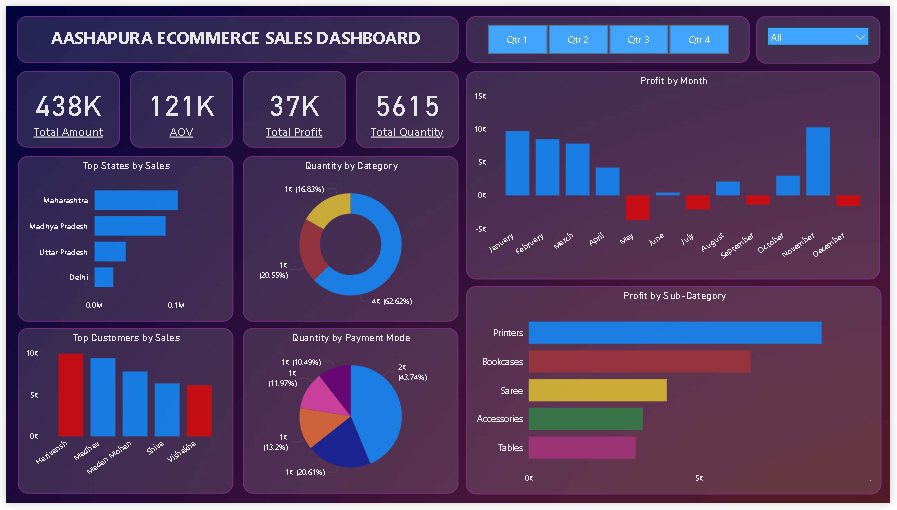

This screenshot's page, from the dashboard's own definition file:
{"tool":"powerbi","page":{"name":"Page 2","canvas":[1280,720],"ordinal":1},"visuals":[{"type":"textbox","box":[15.4,14.6,640,67.7],"z":0},{"type":"columnChart","title":"Profit by Month","fields":{"Category":["Orders.Order Date.Variation.Date Hierarchy.Month"],"Y":["Sum(Details.Profit)"]},"box":[666.9,94.6,600,302.3],"z":1000},{"type":"barChart","title":"Profit by Sub-Category","fields":{"Category":["Details.Sub-Category"],"Y":["Sum(Details.Profit)"]},"box":[666.7,405.6,602.2,302.2],"z":2000},{"type":"donutChart","title":"Quantity by Category","fields":{"Category":["Details.Category"],"Y":["Sum(Details.Quantity)"]},"box":[343.3,216.7,311.7,240],"z":3000},{"type":"pieChart","title":"Quantity by Payment Mode","fields":{"Category":["Details.PaymentMode"],"Y":["Sum(Details.Quantity)"]},"box":[343.1,466.9,312.3,240],"z":4000},{"type":"card","fields":{"Values":["Sum(Details.Amount)"]},"box":[15.7,94.3,148.6,111.4],"z":5000},{"type":"card","fields":{"Values":["Sum(Details.AOV)"]},"box":[180,94.3,148.6,111.4],"z":6000},{"type":"card","fields":{"Values":["Sum(Details.Profit)"]},"box":[342.9,94.3,148.6,111.4],"z":7000},{"type":"card","fields":{"Values":["Sum(Details.Quantity)"]},"box":[507.1,94.3,148.6,111.4],"z":8000},{"type":"barChart","title":"Top States by Sales","fields":{"Category":["Orders.State"],"Y":["Sum(Details.Amount)"]},"box":[16.7,216.7,311.7,240],"z":9000},{"type":"columnChart","title":"Top Customers by Sales","fields":{"Category":["Orders.CustomerName"],"Y":["Sum(Details.Amount)"]},"box":[16.7,466.7,311.7,240],"z":10000},{"type":"slicer","fields":{"Values":["Orders.Order Date.Variation.Date Hierarchy.Quarter"]},"box":[666.7,14.4,411.1,67.8],"z":11000},{"type":"slicer","fields":{"Values":["Orders.State"]},"box":[1087,14,180,69],"z":12000}]}

Visuals, with their boxes in screenshot pixels (x1, y1, x2, y2), scaled from the page's 1280x720 canvas onto the 897x510 screenshot:
textbox: [left=11, top=10, right=459, bottom=58]
"Profit by Month" columnChart: [left=467, top=67, right=888, bottom=281]
"Profit by Sub-Category" barChart: [left=467, top=287, right=889, bottom=501]
"Quantity by Category" donutChart: [left=241, top=153, right=459, bottom=323]
"Quantity by Payment Mode" pieChart: [left=240, top=331, right=459, bottom=501]
card - Sum(Details.Amount): [left=11, top=67, right=115, bottom=146]
card - Sum(Details.AOV): [left=126, top=67, right=230, bottom=146]
card - Sum(Details.Profit): [left=240, top=67, right=344, bottom=146]
card - Sum(Details.Quantity): [left=355, top=67, right=460, bottom=146]
"Top States by Sales" barChart: [left=12, top=153, right=230, bottom=323]
"Top Customers by Sales" columnChart: [left=12, top=331, right=230, bottom=501]
slicer - Orders.Order Date.Variation.Date Hierarchy.Quarter: [left=467, top=10, right=755, bottom=58]
slicer - Orders.State: [left=762, top=10, right=888, bottom=59]
